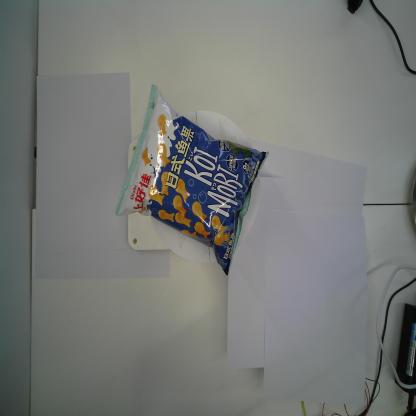Puffed Food: (114, 83, 270, 277)
